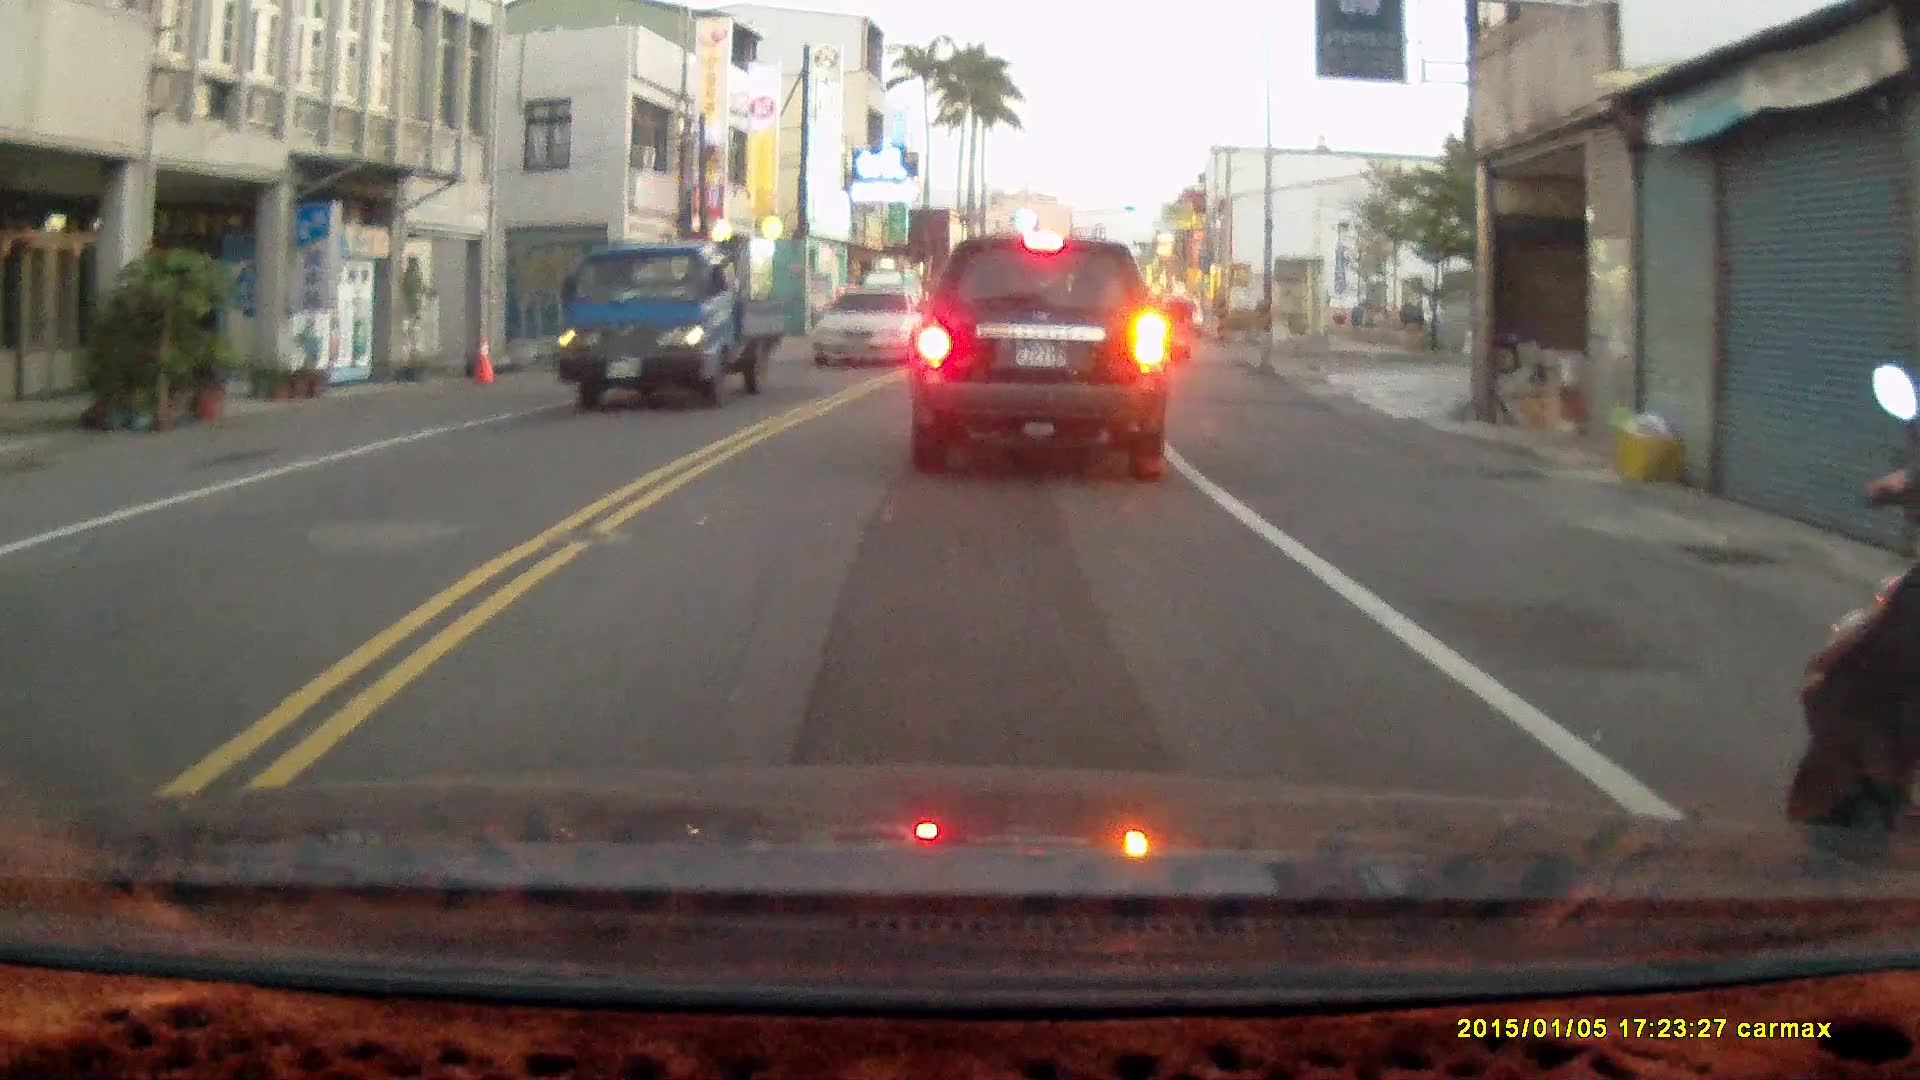rider: (1779, 360, 1920, 888), (1161, 282, 1192, 365)
vehicle: (909, 229, 1175, 478), (540, 229, 790, 402), (815, 283, 931, 368)
